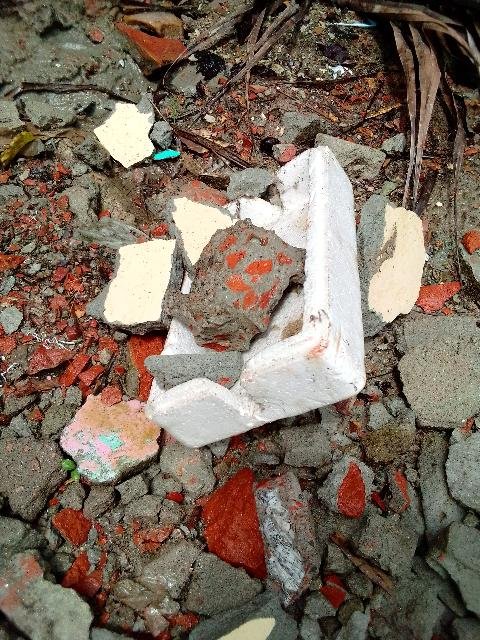cocksheet: (134, 139, 370, 456)
